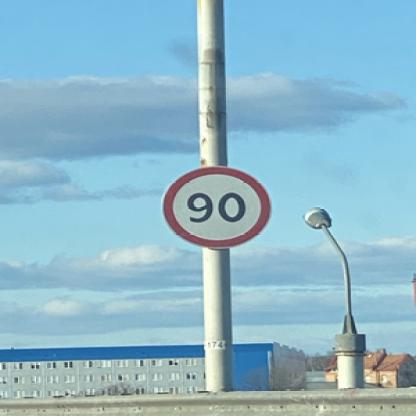speedlimit: (159, 166, 268, 248)
